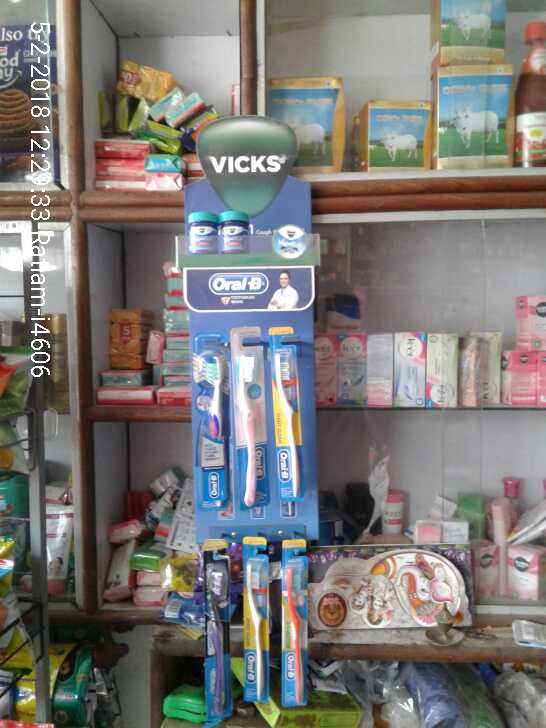pharmacy: (195, 541, 240, 720), (272, 553, 318, 706), (192, 353, 228, 503), (232, 348, 263, 515), (272, 349, 305, 501), (238, 552, 267, 698), (182, 202, 253, 256)
